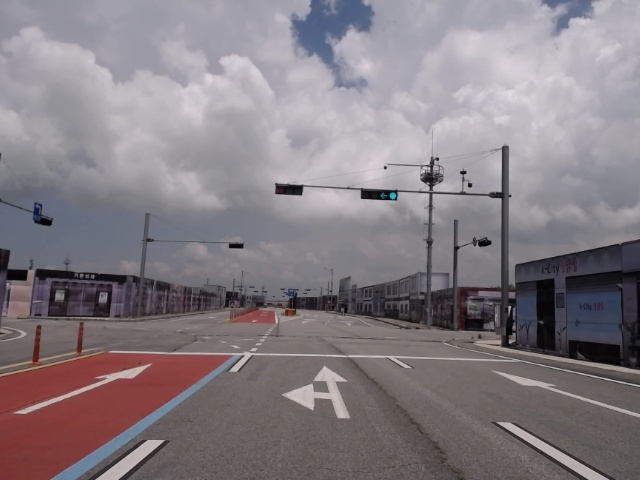all_green_4: (362, 187, 399, 201)
